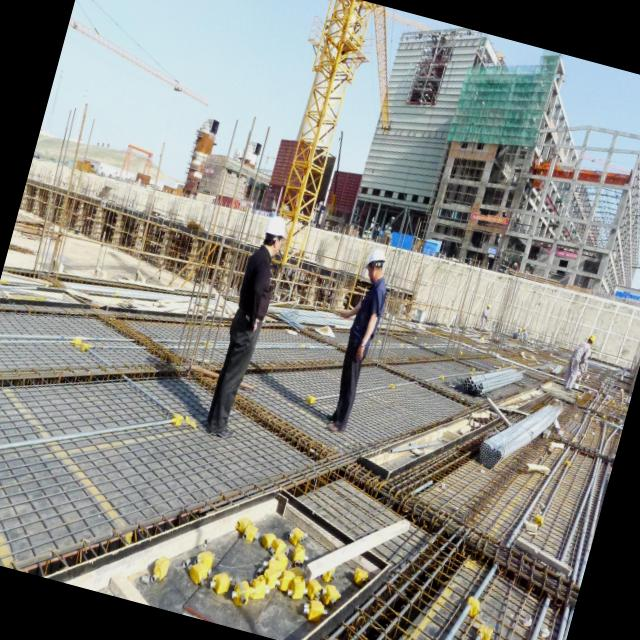helmet: (262, 212, 292, 240), (362, 244, 388, 272)
no-vest: (228, 240, 285, 324), (346, 274, 392, 352)
